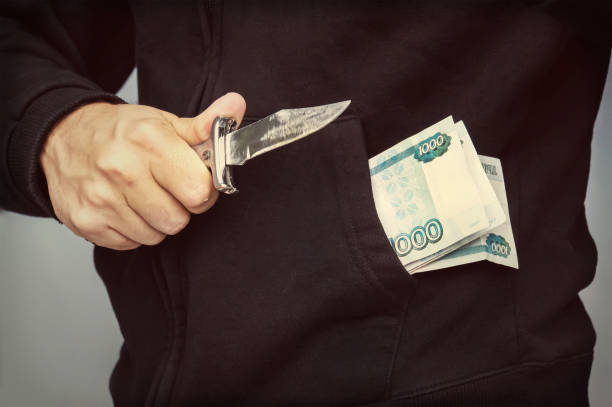knife: (192, 100, 353, 194)
